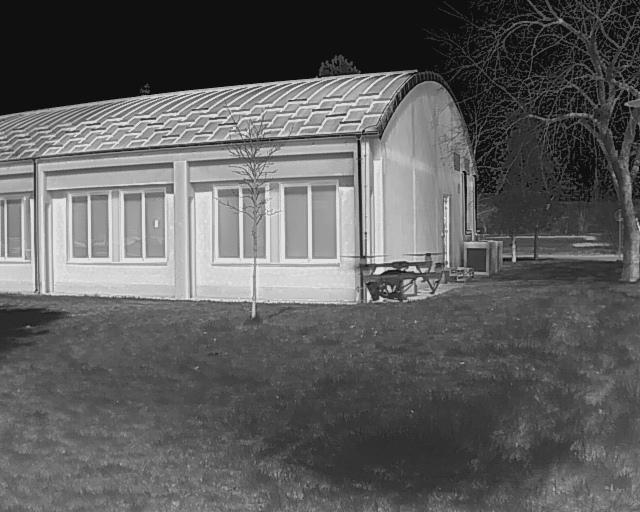drone: (334, 238, 462, 318)
